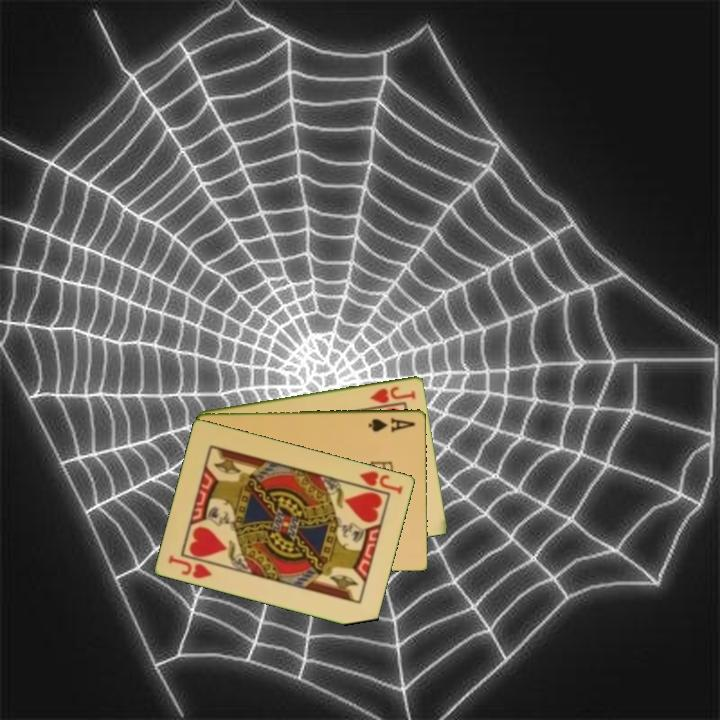As: (365, 414, 418, 435)
Jh: (349, 467, 406, 497), (165, 551, 215, 581), (367, 383, 419, 406)
